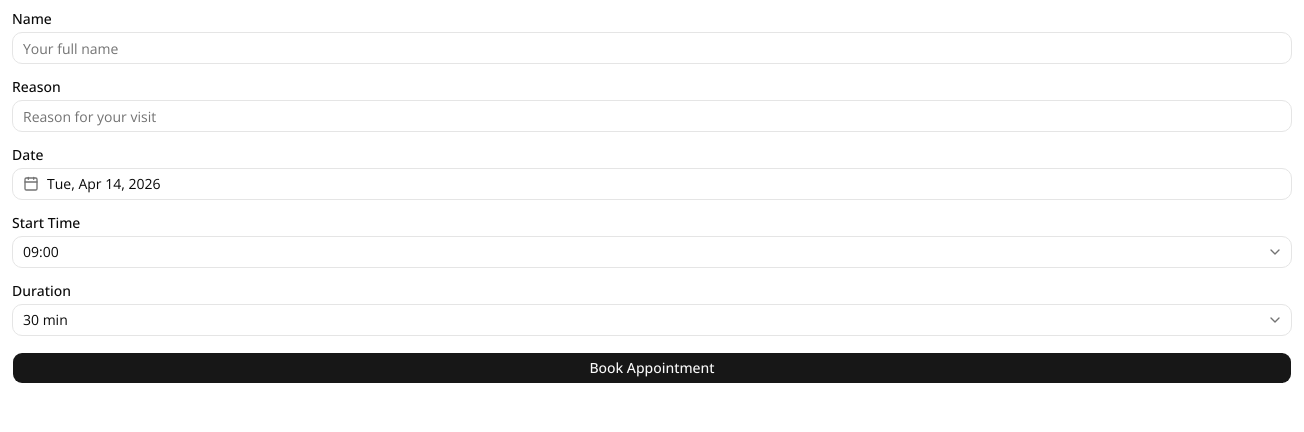
BookingForm › create mode (no booking prop) › error handling › displays network error message when fetch rejects
The image size is (1304, 432).
Type "John Smith" into the field labelled "Name". click: (652, 48)
box: [12, 32, 1292, 64]
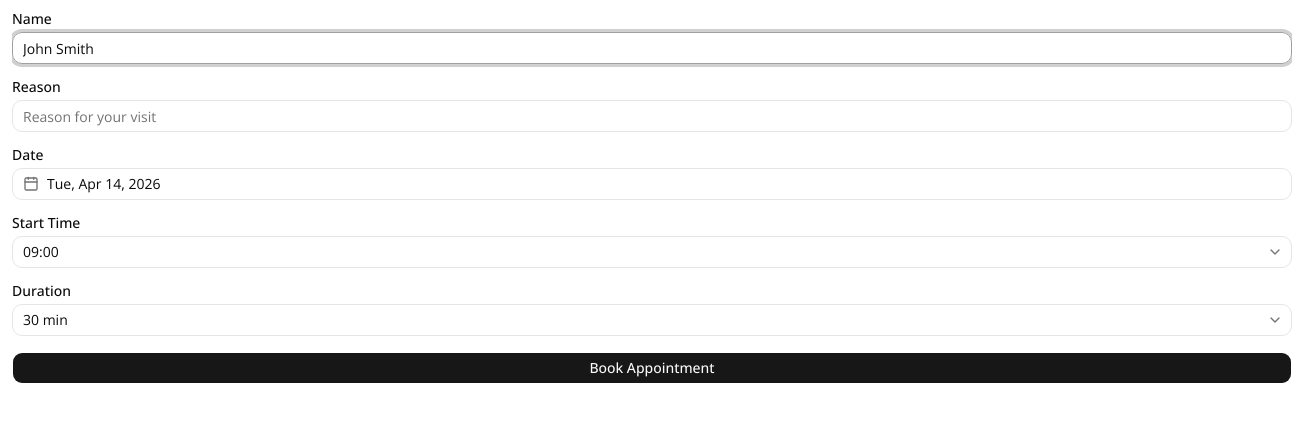
Type "Knee pain" into the field labelled "Reason". click: (652, 116)
box: [12, 100, 1292, 132]
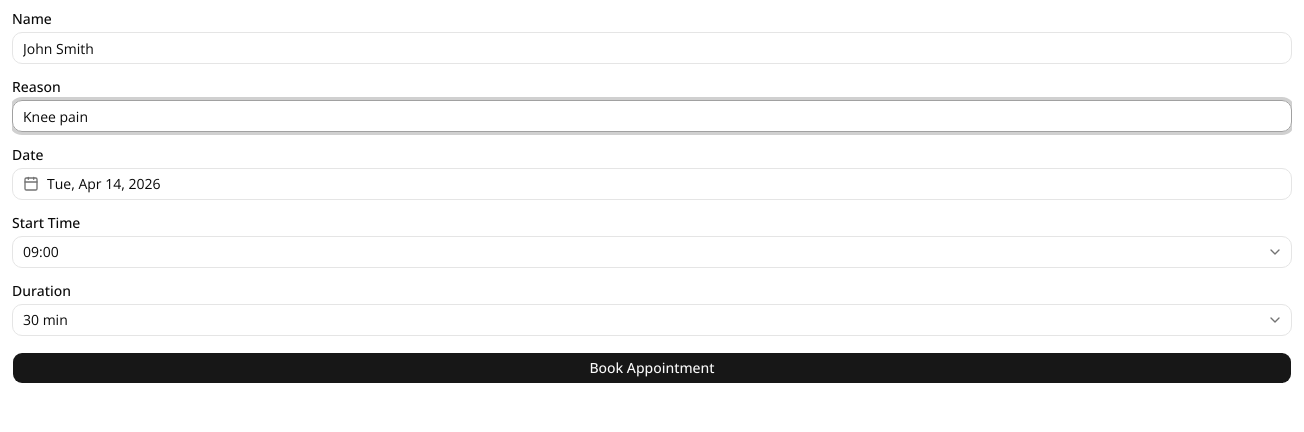
Click the button "Book Appointment". click: (652, 368)
box: [12, 352, 1292, 384]
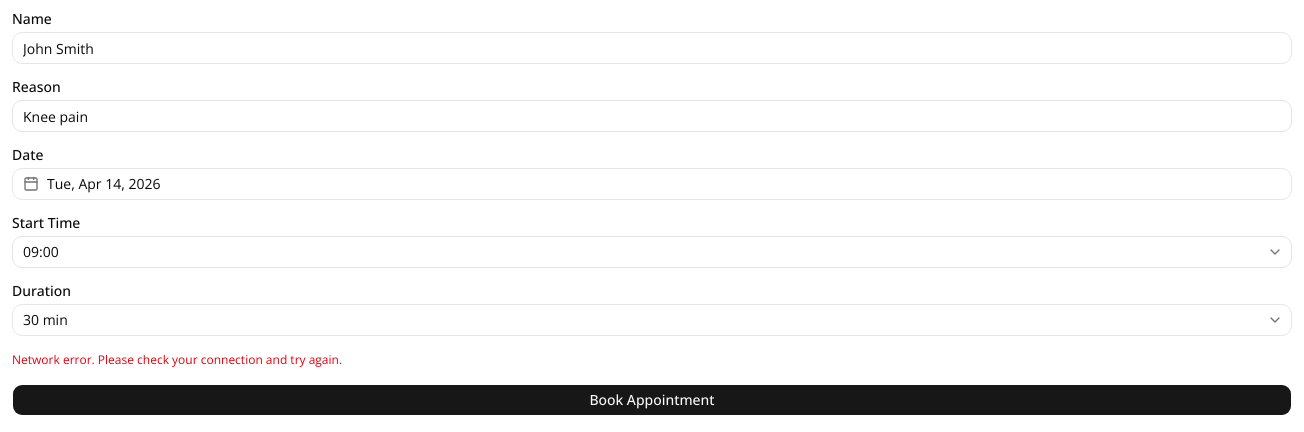
Expected: the message reads "Network error. Please check your connection and try again.", [12, 351, 342, 368]
